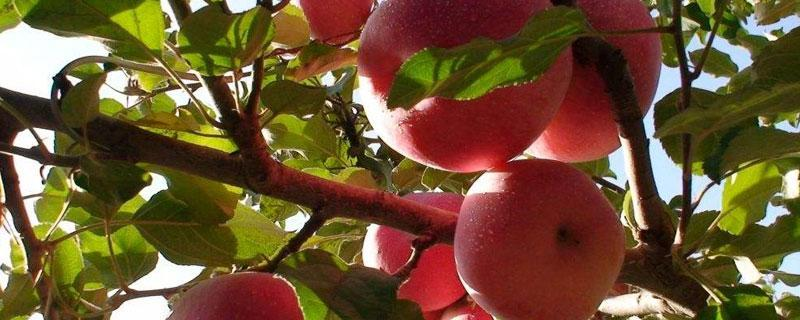apple: (351, 1, 573, 175), (449, 164, 623, 319), (360, 189, 470, 312)
